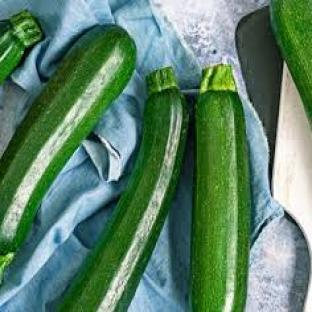Zucchini: (0, 25, 136, 256), (60, 68, 189, 311), (192, 66, 249, 311), (0, 11, 42, 84)
